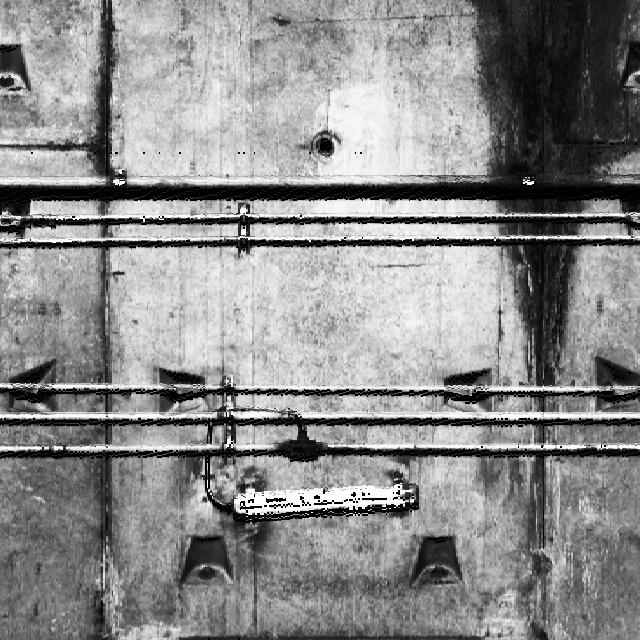leakage: (465, 0, 639, 454), (49, 0, 135, 176)
